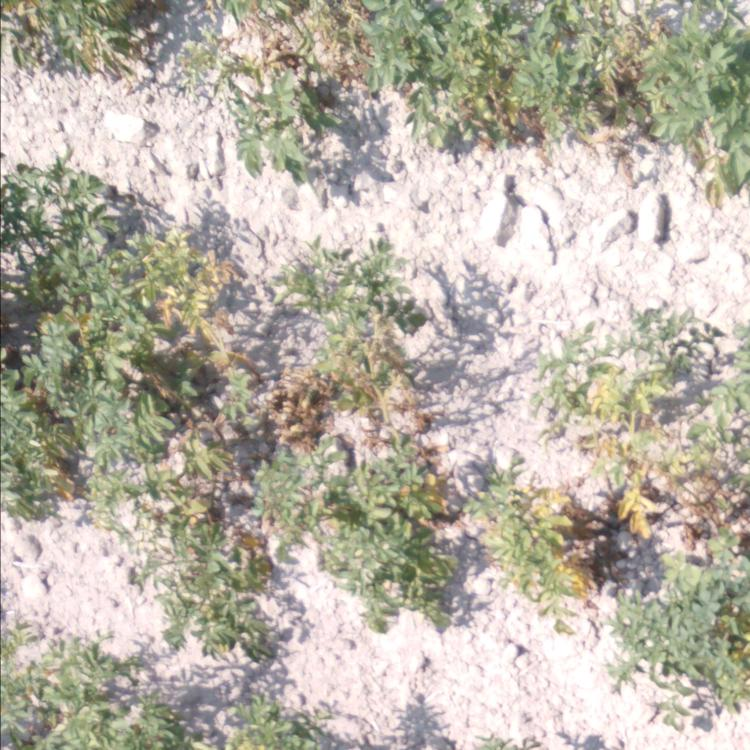healthy: (6, 651, 181, 750), (188, 694, 364, 750), (598, 600, 686, 691), (404, 705, 445, 750)
stressed: (101, 221, 296, 404), (536, 310, 750, 442), (538, 3, 750, 127), (354, 1, 537, 140), (296, 231, 414, 438), (103, 407, 286, 539), (339, 442, 459, 621), (1, 324, 104, 532), (606, 447, 750, 594), (468, 454, 604, 596), (1, 161, 115, 316), (137, 535, 284, 648), (186, 1, 363, 91), (1, 1, 154, 75), (226, 89, 338, 189), (613, 124, 745, 187), (692, 598, 750, 704), (291, 439, 337, 545)
